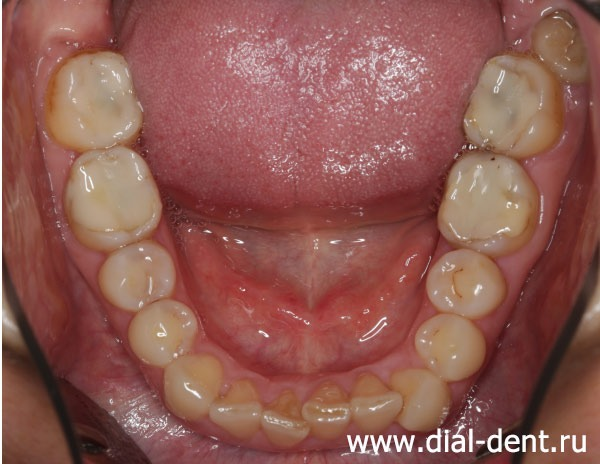LL1BC_healthy: (417, 316, 488, 379)
LL1M_healthy: (442, 149, 537, 247)
LL2BC_healthy: (427, 250, 506, 313)
LL2M_decay: (475, 53, 560, 148)
LL3M_decay: (535, 10, 588, 76)
LLCI_decay: (304, 378, 350, 439)
LLC_healthy: (398, 370, 452, 428)
LLLI_healthy: (353, 372, 402, 430)
LR1BC_healthy: (130, 301, 195, 362)
LR1M_decay: (70, 152, 163, 246)
LR2BC_healthy: (102, 245, 176, 307)
LR2M_healthy: (55, 53, 143, 150)
LRCI_decay: (265, 387, 306, 445)
LRC_healthy: (164, 352, 221, 418)
LRLI_healthy: (216, 379, 263, 434)
